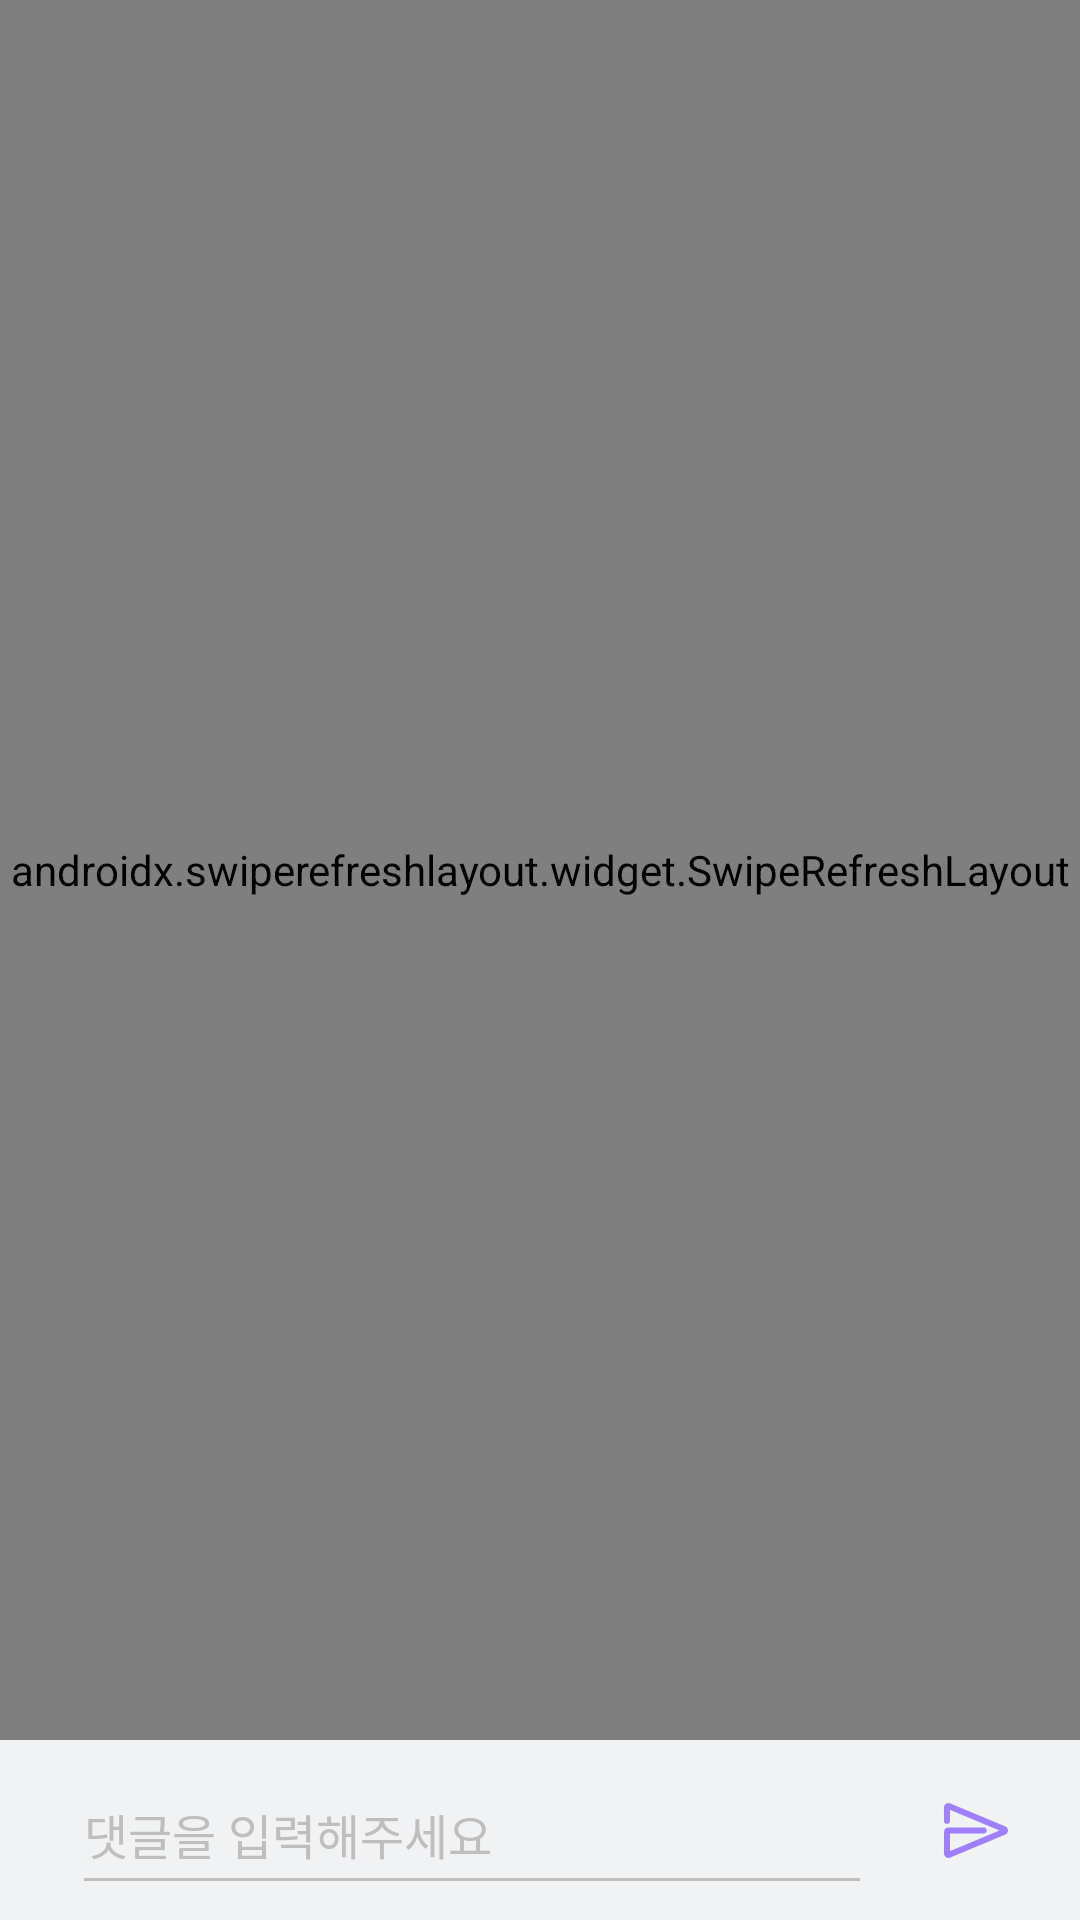

Screen size 1080 x 1920. Icon name, then its center in pixels as [x,y]:
post: [976,1830]
